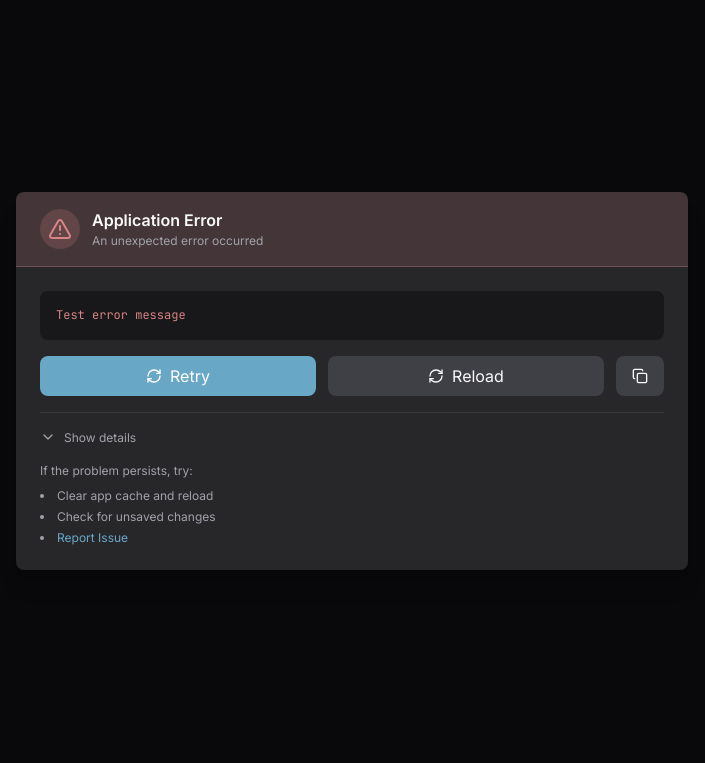
Test: ErrorBoundary › User Interaction › clicking show details should expand details
Check: the text "Stack trace" is not shown
Click the button "Show details": (88, 437) [40, 429, 136, 446]
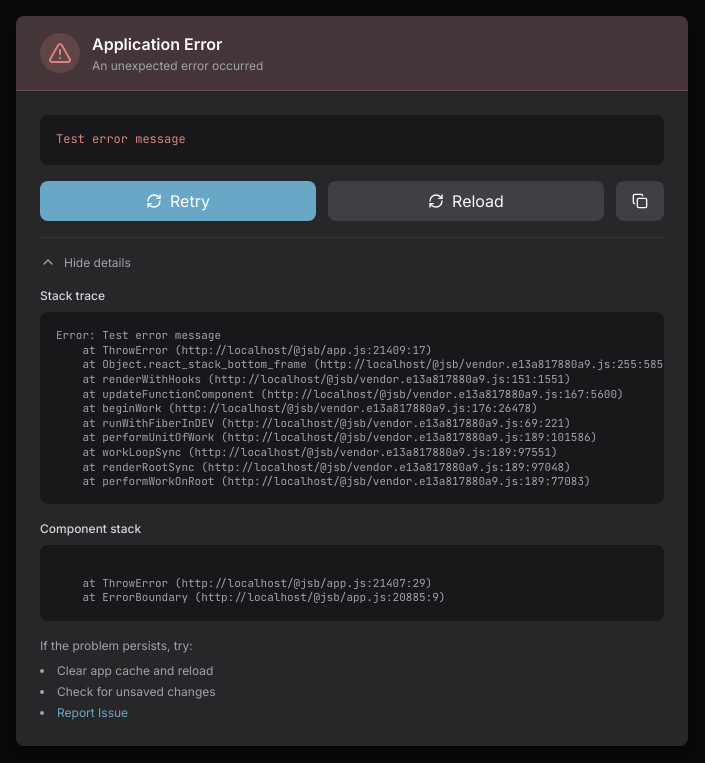
Check: the heading "Stack trace" is shown, box [40, 288, 105, 303]
